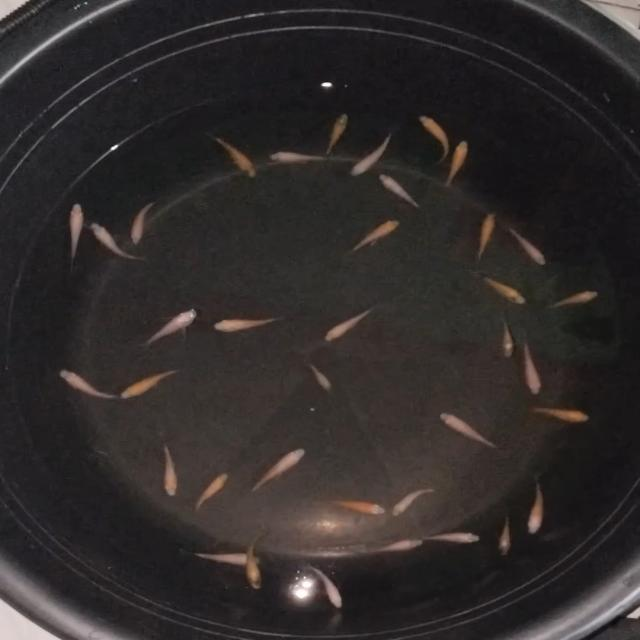nila: (433, 410, 515, 456), (88, 218, 154, 264), (252, 442, 308, 494), (204, 128, 262, 178), (320, 301, 384, 344), (55, 364, 117, 406), (118, 366, 186, 404), (142, 306, 199, 351), (345, 129, 397, 176), (502, 223, 550, 269), (374, 170, 424, 213), (208, 310, 296, 334), (350, 216, 402, 256), (124, 195, 165, 245), (468, 206, 498, 274), (416, 110, 449, 170), (476, 269, 528, 306), (184, 544, 258, 570), (308, 564, 348, 612), (388, 485, 442, 520), (522, 400, 594, 426), (440, 136, 470, 196), (518, 336, 546, 398), (64, 200, 90, 266), (317, 109, 354, 154), (328, 492, 392, 518), (194, 469, 231, 513), (244, 534, 268, 594), (526, 471, 547, 538), (264, 146, 330, 166), (159, 440, 180, 500), (419, 528, 487, 546), (308, 359, 338, 397), (352, 538, 420, 553), (496, 314, 515, 364), (497, 513, 519, 553), (546, 290, 600, 306)
